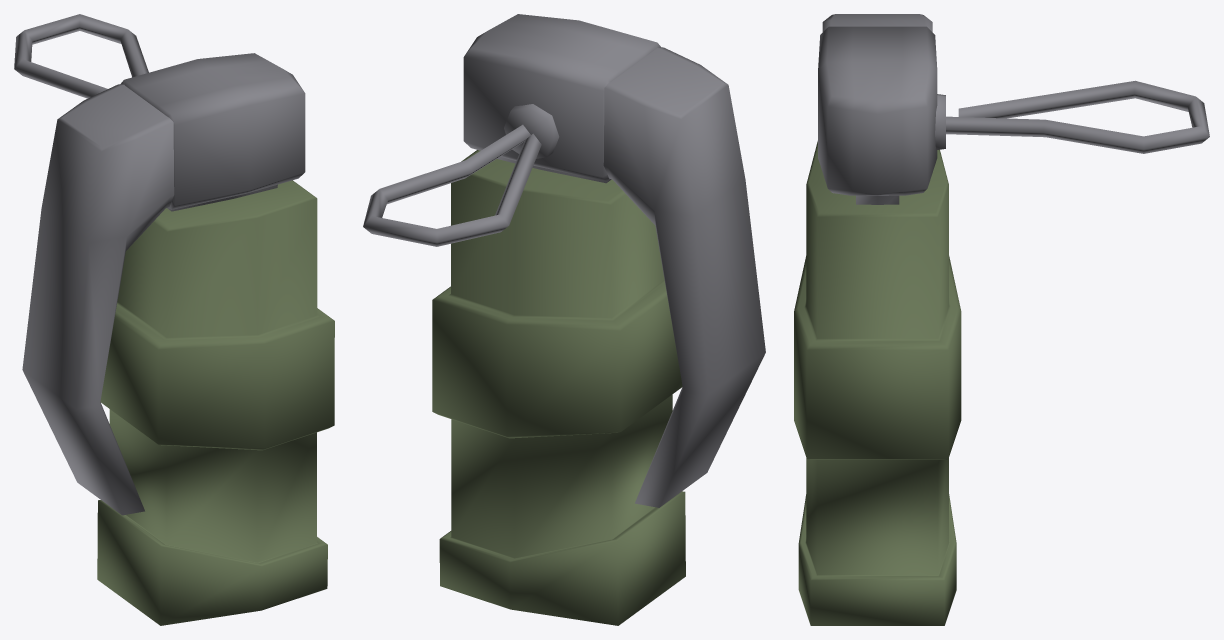
The model's file is Granada2.fbx.
3 views of the same model, side by side, from view 1: azimuth 30°, elevation 25°; view 2: azimuth 150°, elevation 25°; view 3: azimuth 270°, elevation 25° (orthographic). The views are drawn at different scales.
Parts seen in each view (by area): view 1: Cube.029, Cube.030, Cube.031, NurbsPath.006; view 2: Cube.029, Cube.030, Cube.031, NurbsPath.006, Cube.032; view 3: Cube.029, Cube.031, NurbsPath.006, Cube.030, Cube.032.
Part boxes in pixels (x1=…): Cube.029: x1=97, y1=180, x2=334, y2=625; Cube.030: x1=22, y1=84, x2=174, y2=515; Cube.031: x1=121, y1=53, x2=305, y2=211; NurbsPath.006: x1=14, y1=14, x2=148, y2=98; Cube.029: x1=432, y1=150, x2=685, y2=625; Cube.030: x1=603, y1=47, x2=765, y2=507; Cube.031: x1=463, y1=14, x2=660, y2=183; NurbsPath.006: x1=363, y1=124, x2=541, y2=246; Cube.032: x1=504, y1=104, x2=559, y2=158; Cube.029: x1=794, y1=141, x2=961, y2=625; Cube.031: x1=818, y1=26, x2=937, y2=204; NurbsPath.006: x1=946, y1=80, x2=1209, y2=153; Cube.030: x1=822, y1=14, x2=932, y2=31; Cube.032: x1=935, y1=94, x2=945, y2=150.
Bounding box in the file's own units: 4.19 × 8.08 × 5.77.
